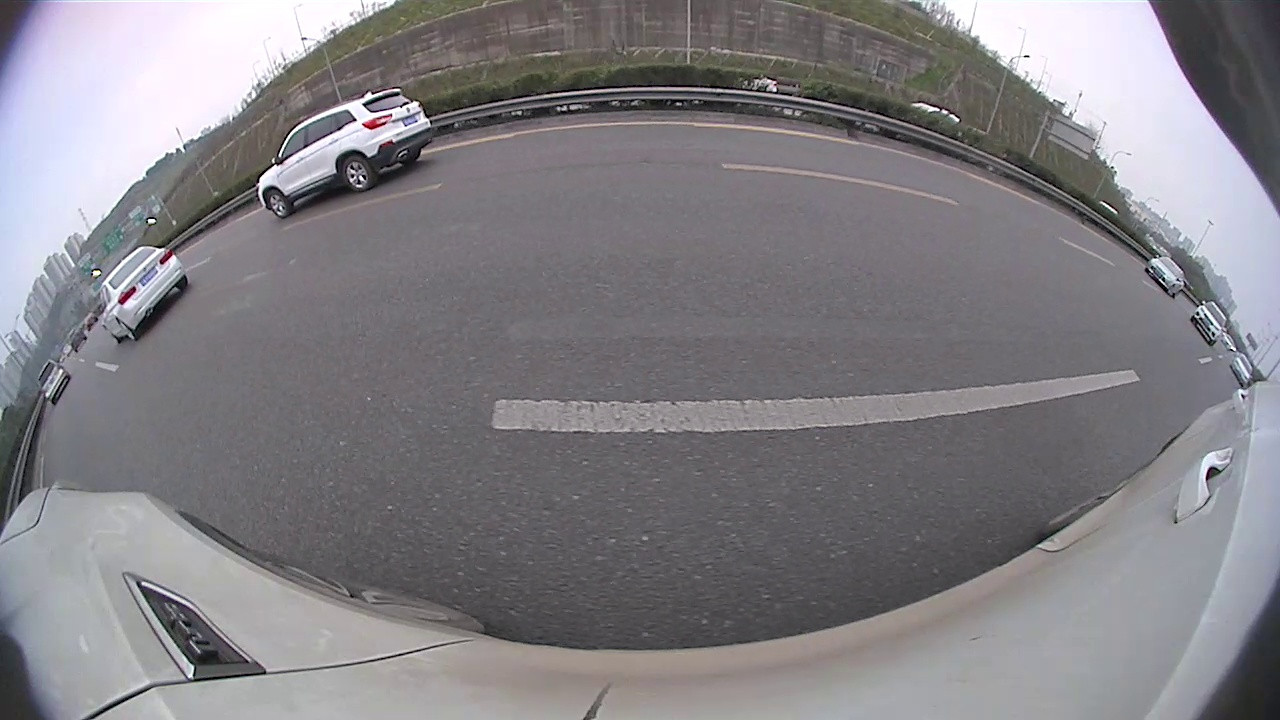car: (185, 146, 486, 317), (571, 104, 799, 264), (1130, 279, 1278, 424), (957, 192, 1116, 288), (808, 154, 874, 211), (874, 171, 927, 216), (540, 162, 576, 194)
front: (1160, 334, 1230, 417), (464, 197, 483, 235), (961, 217, 981, 243)
rear: (336, 228, 384, 297), (1040, 248, 1069, 278), (823, 191, 836, 206), (880, 197, 890, 211)
